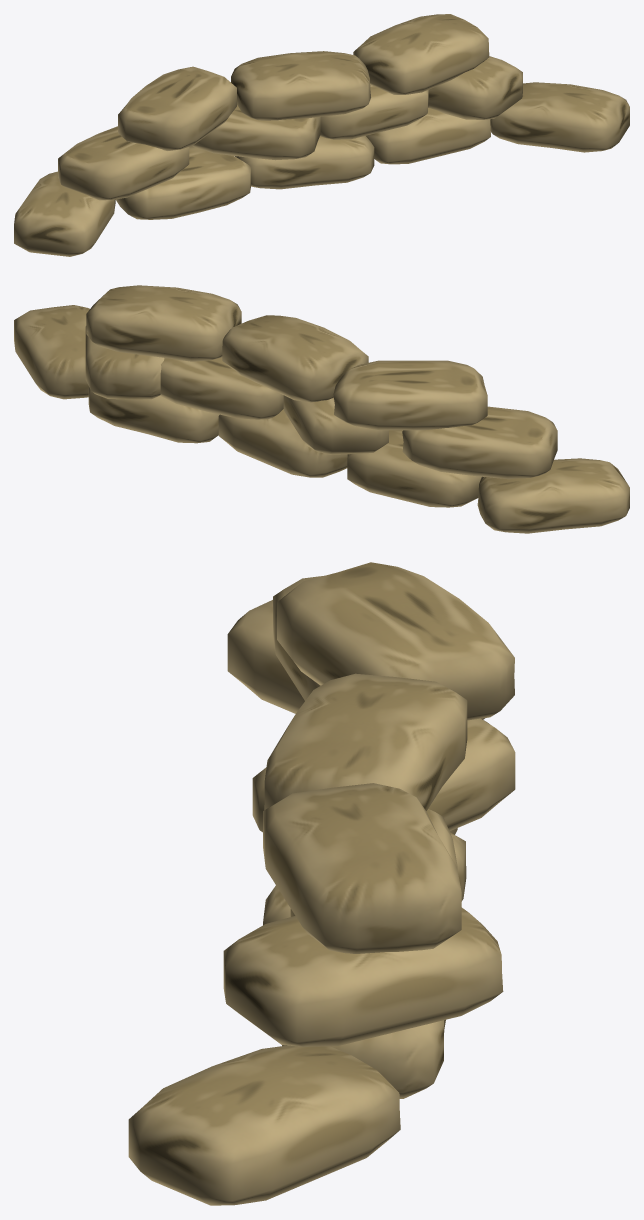
Rendered from Sandbag_Wall.fbx.
3 views of the same model, one above another, from view 1: azimuth 30°, elevation 25°; view 2: azimuth 150°, elevation 25°; view 3: azimuth 270°, elevation 25° (orthographic). The views are drawn at different scales.
Visible parts, largest first — view 1: Sandbag_Wall; view 2: Sandbag_Wall; view 3: Sandbag_Wall.
Part boxes in pixels (<box>): Sandbag_Wall: <box>14,14,629,256</box>; Sandbag_Wall: <box>14,285,629,533</box>; Sandbag_Wall: <box>128,562,515,1205</box>.
Bounding box in the file's own units: 5.31 × 0.996 × 1.51.
